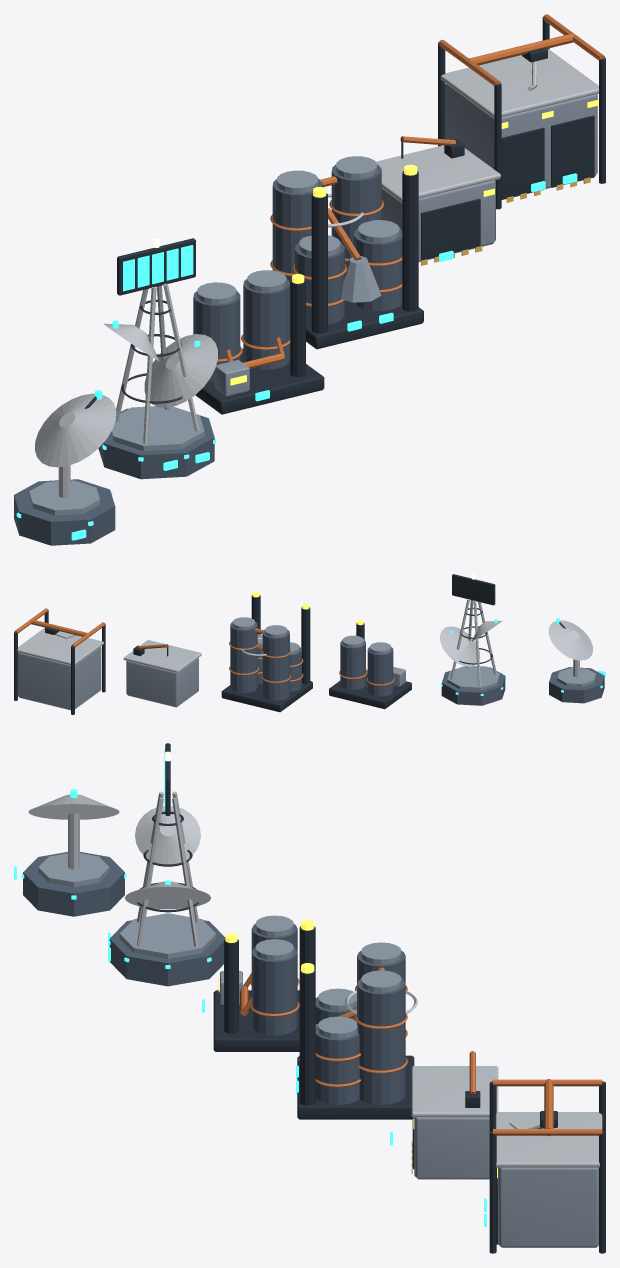
File: facilities.glb
The picture shows the model from 3 angles, top to bottom: view 1: azimuth 30°, elevation 25°; view 2: azimuth 150°, elevation 25°; view 3: azimuth 270°, elevation 25°; orthographic projection. The views are drawn at different scales.
Parts seen in each view (by area): view 1: Fabrication | roof.001, Fabrication | hangar.001, Sensor | dish, Fabrication | roof, Sensor | plinth, Sensor | dish.001, Refinery | tank.001, Sensor | plinth.001, Sensor | collar.001, Refinery | skid, Fabrication | door, Fabrication | hangar (+26 smaller); view 2: Fabrication | hangar.001, Fabrication | hangar, Refinery | tank.002, Refinery | tank.003, Fabrication | roof.001, Fabrication | roof, Sensor | dish, Sensor | plinth, Sensor | plinth.001, Refinery | tank, Refinery | tank.001, Refinery | skid.001 (+21 smaller); view 3: Fabrication | hangar.001, Refinery | tank.003, Fabrication | roof.001, Fabrication | hangar, Fabrication | roof, Sensor | plinth, Sensor | plinth.001, Refinery | tank.001, Sensor | collar.001, Refinery | tank.005, Refinery | skid, Refinery | skid.001 (+19 smaller).
Part boxes in pixels (box(x1,y1,x2,y2)): Fabrication | roof.001: box(440, 49, 598, 117); Fabrication | hangar.001: box(445, 83, 597, 189); Sensor | dish: box(35, 393, 116, 467); Fabrication | roof: box(376, 145, 500, 202); Sensor | plinth: box(14, 479, 115, 545); Sensor | dish.001: box(144, 334, 217, 407); Refinery | tank.001: box(243, 279, 290, 369); Sensor | plinth.001: box(98, 408, 214, 479); Sensor | collar.001: box(110, 406, 204, 451); Refinery | skid: box(195, 349, 324, 414); Fabrication | door: box(421, 198, 480, 260); Fabrication | hangar: box(381, 180, 495, 262); Fabrication | hangar.001: box(18, 646, 101, 710); Fabrication | hangar: box(126, 658, 198, 707); Refinery | tank.002: box(262, 629, 289, 700); Refinery | tank.003: box(230, 622, 257, 692); Fabrication | roof.001: box(17, 628, 103, 665); Fabrication | roof: box(123, 640, 201, 672); Sensor | dish: box(548, 620, 592, 660); Sensor | plinth: box(549, 667, 604, 703); Sensor | plinth.001: box(441, 667, 505, 705); Refinery | tank: box(367, 647, 393, 696); Refinery | tank.001: box(340, 640, 365, 689); Refinery | skid.001: box(221, 681, 312, 712); Fabrication | hangar.001: box(498, 1167, 598, 1247); Refinery | tank.003: box(357, 979, 405, 1104); Fabrication | roof.001: box(495, 1112, 602, 1167); Fabrication | hangar: box(414, 1117, 489, 1179); Fabrication | roof: box(411, 1066, 498, 1117); Sensor | plinth: box(23, 852, 124, 916); Sensor | plinth.001: box(109, 920, 225, 986); Refinery | tank.001: box(251, 947, 297, 1035); Sensor | collar.001: box(119, 913, 216, 958); Refinery | tank.005: box(315, 1025, 359, 1104); Refinery | skid: box(213, 990, 299, 1051); Refinery | skid.001: box(297, 1055, 414, 1119).
Size of the model in its own units: 17.7 by 4.53 by 11.64.
